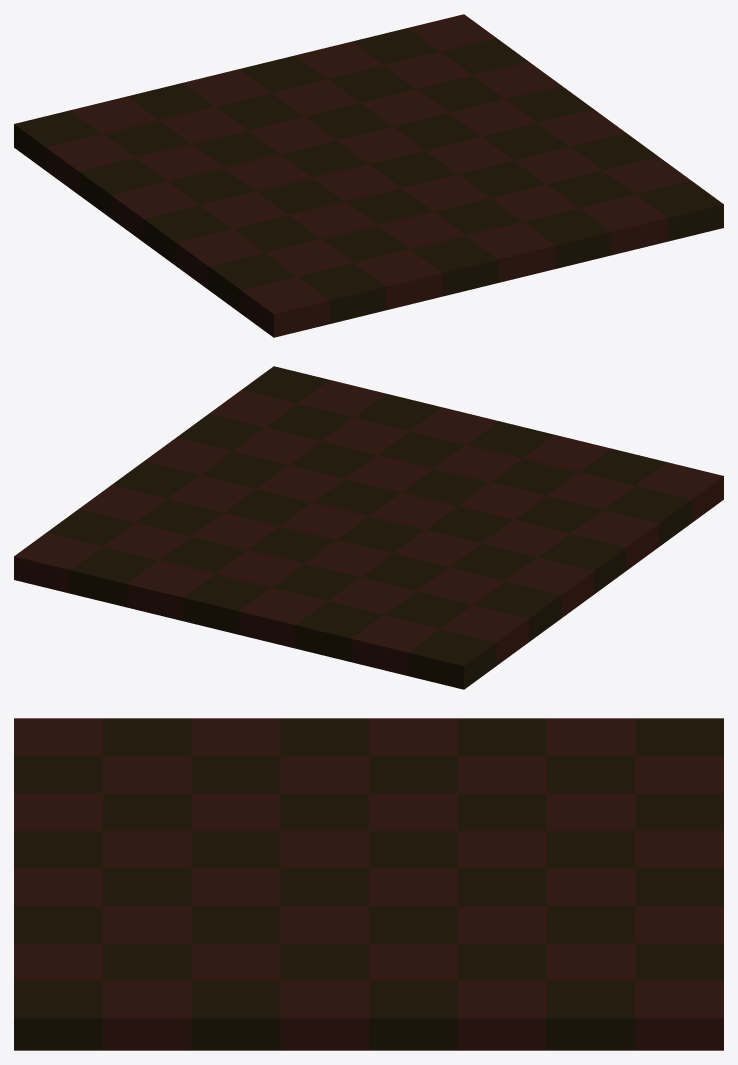
File: GroundDirt01.fbx
3 views of the same model, one above another, from view 1: azimuth 30°, elevation 25°; view 2: azimuth 150°, elevation 25°; view 3: azimuth 270°, elevation 25° (orthographic). The views are drawn at different scales.
Parts seen in each view (by area): view 1: ObjObject.003; view 2: ObjObject.003; view 3: ObjObject.003.
Boxes of the visible parts, <box> form: ObjObject.003: <box>14,14,723,337</box>; ObjObject.003: <box>14,366,723,689</box>; ObjObject.003: <box>14,718,723,1050</box>.
Bounding box in the file's own units: 400 × 400 × 20.
1 material, 1 textured.
